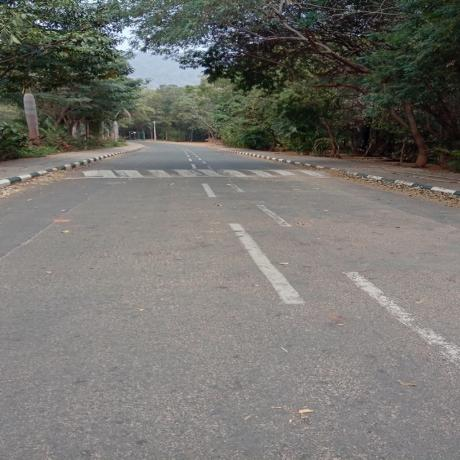Speed Bump: (52, 168, 323, 178)
